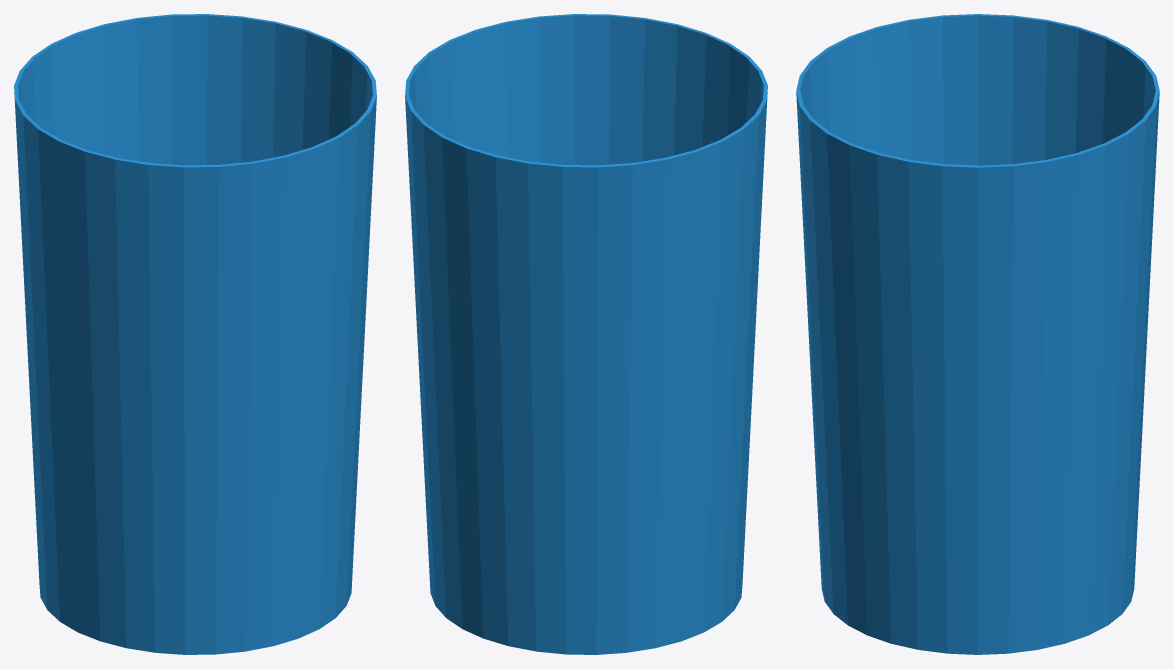
The model's file is blue_cup.fbx.
3 renders of one model, left to right at view 1: azimuth 30°, elevation 25°; view 2: azimuth 150°, elevation 25°; view 3: azimuth 270°, elevation 25°, orthographic.
Visible parts, largest first — view 1: cup.002; view 2: cup.002; view 3: cup.002.
Boxes of the visible parts, x1,y1,x2,y2 form: cup.002: [14, 14, 376, 654]; cup.002: [405, 14, 767, 654]; cup.002: [796, 14, 1159, 654].
Bounding box in the file's own units: 71.15 × 108 × 71.15.
